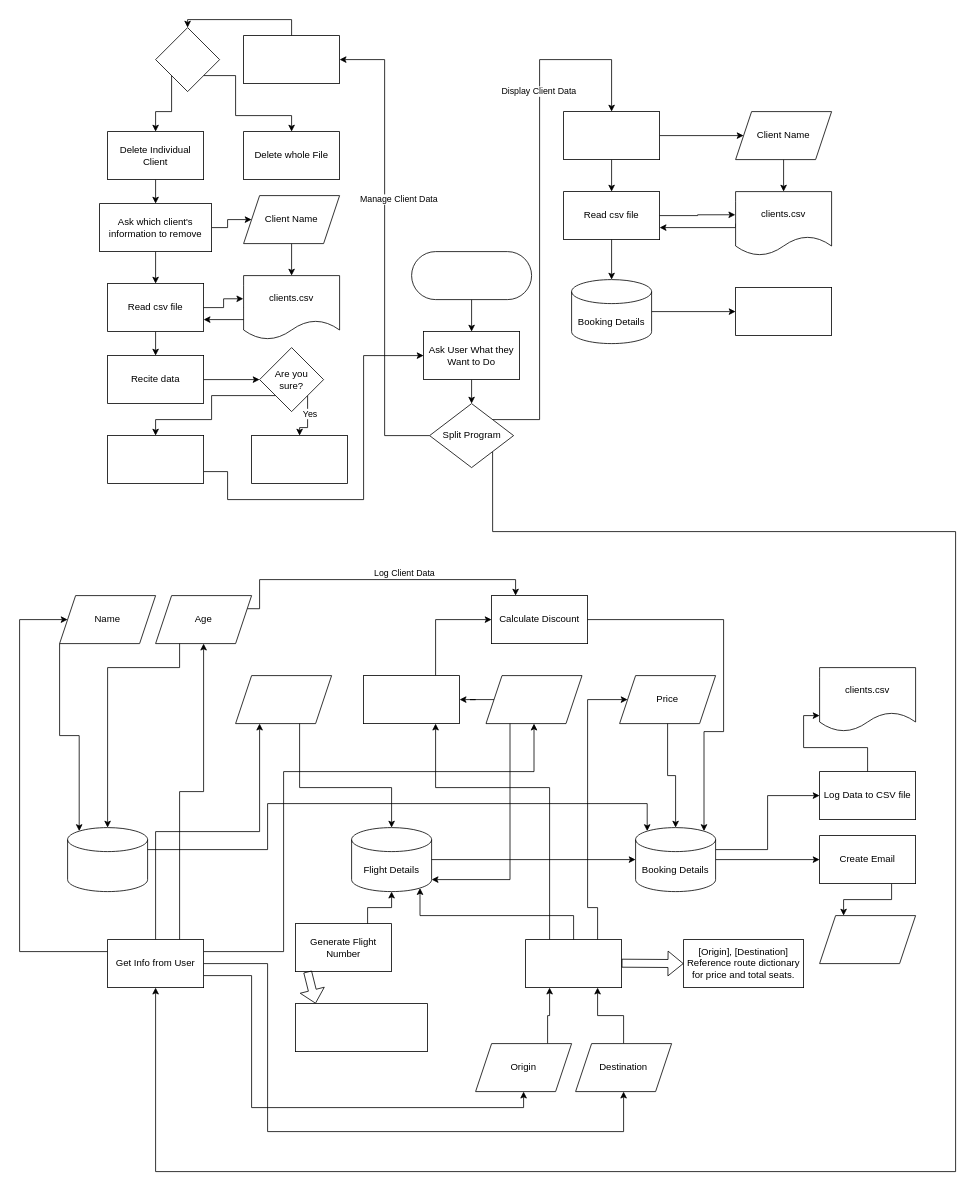
This 976x1192 diagram has some shape labels left out. The shapes that lost their labels are listed below. From the top down, each one's centre as x and y in pixels, then its label:
(x=187, y=59): Identify Decision
(x=291, y=59): Ask user if they want to remove individual client or whole file.
(x=611, y=135): Ask which client's information required
(x=471, y=275): Start Program
(x=783, y=311): Display info & Regenerate Email
(x=155, y=459): No
(x=299, y=459): Delete Row in csv
(x=283, y=699): Flight Date
(x=411, y=699): Compare with Total Seats (subtraction)
(x=533, y=699): Available Seats
(x=107, y=859): Client Details
(x=867, y=939): Display Email
(x=573, y=963): Determine Route
(x=361, y=1027): WA [Random 100-300 value]
